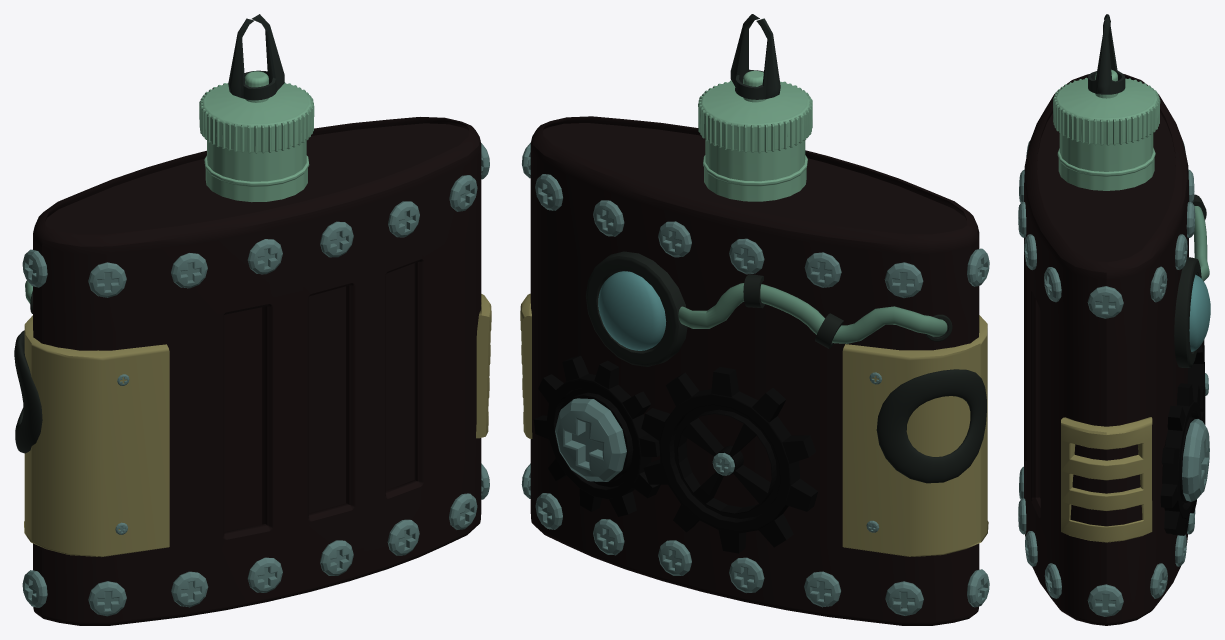
Rendered from Flask.obj.
3 views of the same model, side by side, from view 1: azimuth 30°, elevation 25°; view 2: azimuth 150°, elevation 25°; view 3: azimuth 270°, elevation 25° (orthographic). The views are drawn at different scales.
Visible parts, largest first — view 1: pCylinder1, pCylinder4, pCylinder2, pPipe2, pTorus1, pCylinder3, polySurface18 polySurface10, polySurface24 polySurface11, polySurface11 polySurface23, polySurface10 polySurface17, polySurface10 polySurface16, polySurface11 polySurface22 (+8 smaller); view 2: pCylinder1, pCylinder4, gear4, pCylinder2, gear3, pTorus1, pCylinder6, pCylinder5, polySurface46 polySurface12, pSphere1, pPipe2, pCylinder3 (+14 smaller); view 3: pCylinder1, pCylinder2, pCylinder3, gear3, polySurface46 polySurface12, pCylinder5, pPipe2, pSphere1, polySurface12 polySurface40, polySurface12 polySurface37, pCylinder6, gear4 (+9 smaller).
Part boxes in pixels (x1,y1,x2,y2): pCylinder1: (33,117,481,625); pCylinder4: (24,315,169,556); pCylinder2: (199,71,314,202); pPipe2: (228,14,284,100); pTorus1: (14,330,42,453); pCylinder3: (476,294,491,438); polySurface18 polySurface10: (88,262,126,297); polySurface24 polySurface11: (88,581,126,616); polySurface11 polySurface23: (171,571,208,607); polySurface10 polySurface17: (171,253,207,288); polySurface10 polySurface16: (247,239,282,274); polySurface11 polySurface22: (247,557,282,592); pCylinder1: (530,116,979,625); pCylinder4: (842,315,988,556); gear4: (641,367,817,553); pCylinder2: (698,70,812,201); gear3: (534,355,660,516); pTorus1: (876,369,986,483); pCylinder6: (678,283,947,343); pCylinder5: (585,251,687,366); polySurface46 polySurface12: (555,398,626,481); pSphere1: (598,271,666,350); pPipe2: (730,14,780,99); pCylinder3: (520,293,532,438); pCylinder1: (1024,74,1188,625); pCylinder2: (1053,69,1160,190); pCylinder3: (1061,417,1152,542); gear3: (1160,383,1204,535); polySurface46 polySurface12: (1182,419,1209,501); pCylinder5: (1174,257,1201,367); pPipe2: (1088,14,1125,94); pSphere1: (1189,274,1210,351); polySurface12 polySurface40: (1087,286,1123,318); polySurface12 polySurface37: (1087,584,1123,616); pCylinder6: (1194,206,1209,281); gear4: (1187,340,1205,424).
Bounding box in the file's own units: 2.77 × 3.17 × 1.08.
